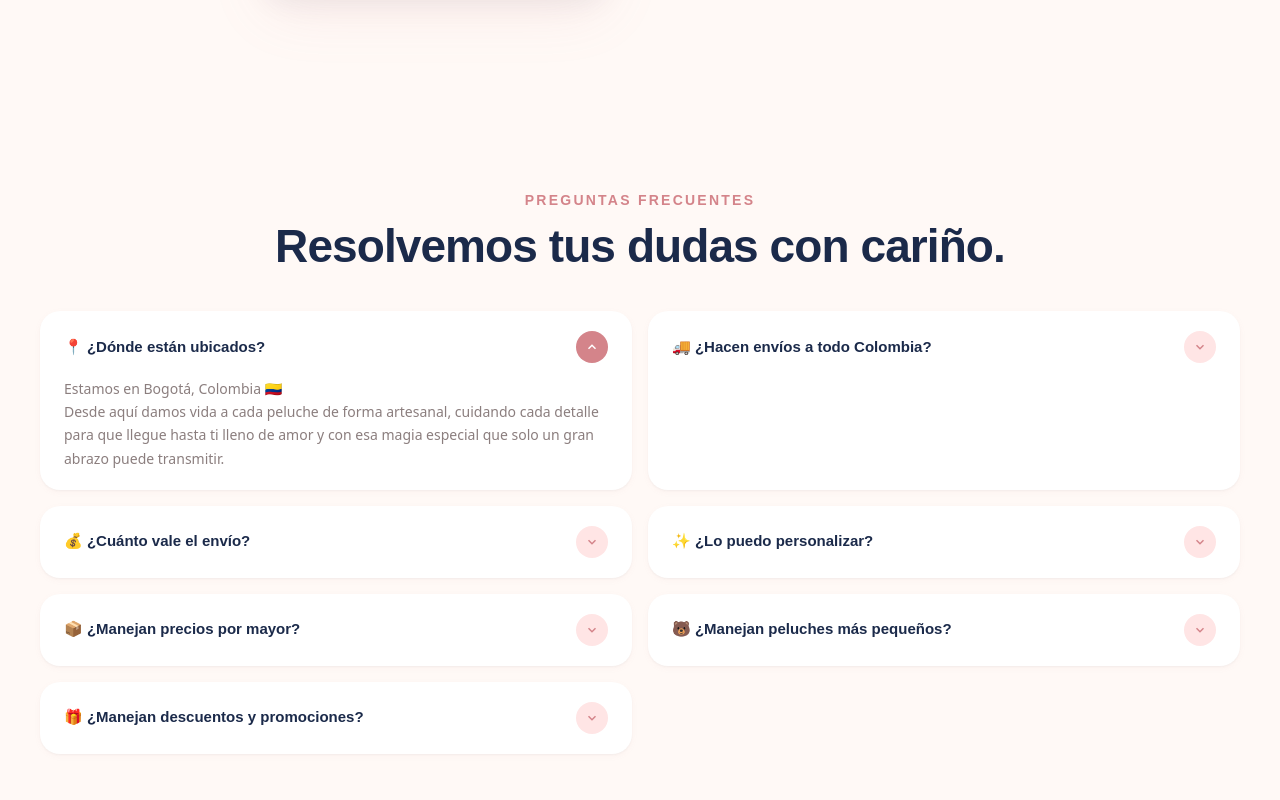
it: HomePage › hides first FAQ answer after clicking its container
(page scrolled)
Click the text "Estamos en Bogotá" at [336, 400], box top-left (40, 311), bottom-right (632, 490)
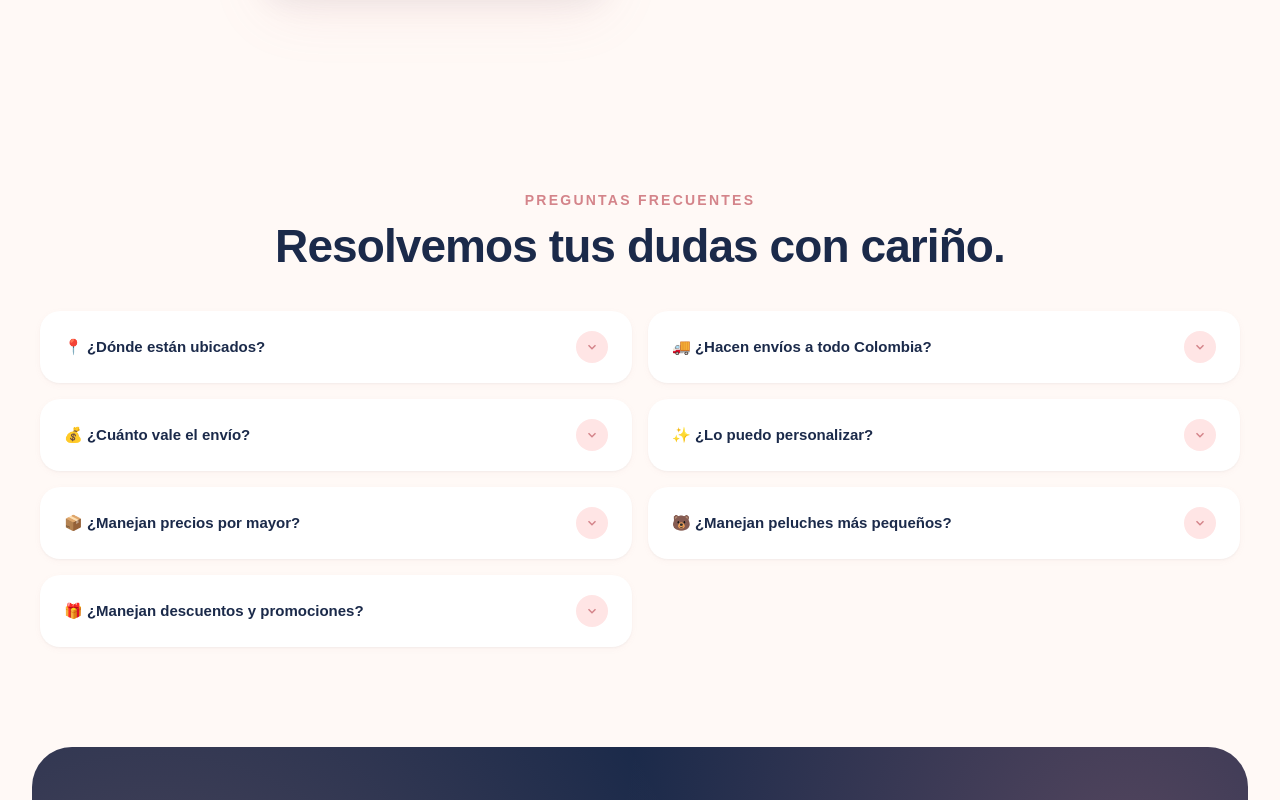
Result: the text "Estamos en Bogotá" is gone
